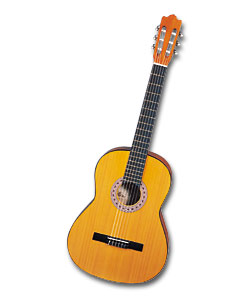guitar: (64, 12, 186, 286)
